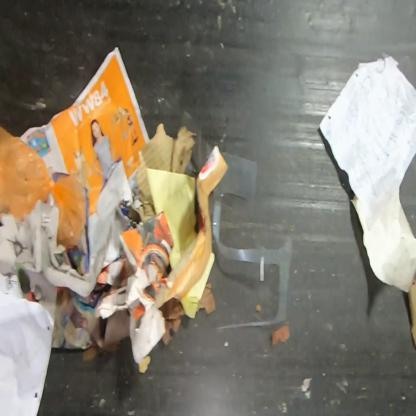cardboard: (407, 276, 416, 349)
soft_plastic: (208, 150, 294, 330), (0, 126, 88, 255), (180, 109, 213, 174)
